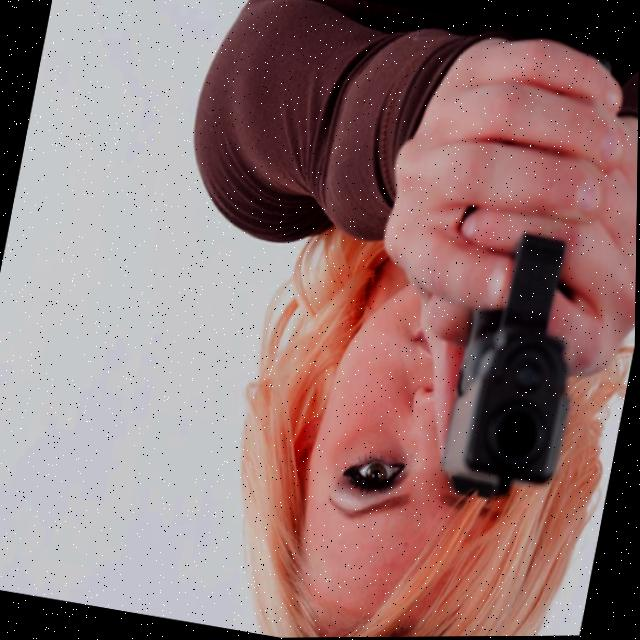pistol: (432, 229, 601, 513)
